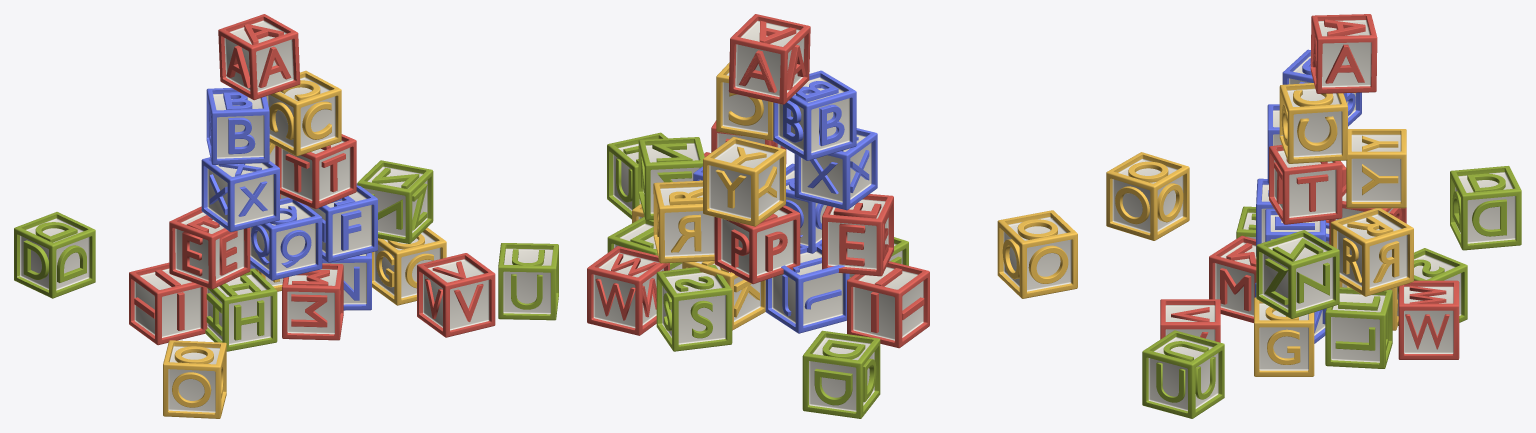
3 renders of one model, left to right at view 1: azimuth 30°, elevation 25°; view 2: azimuth 150°, elevation 25°; view 3: azimuth 270°, elevation 25°, orthographic. The views are drawn at different scales.
Visible parts, largest first — view 1: D_4, A_12, V_1, I_5, E_8, X_15, C_2, O_6, H_7, U_0, Q_22, B_3 (+6 smaller); view 2: Y_19, A_12, O_6, D_4, I_5, S_18, B_3, W_17, J_21, E_8, P_11, X_15 (+8 smaller); view 3: O_6, Z_24, U_0, R_9, D_4, A_12, C_2, L_25, W_17, Y_19, T_13, G_20 (+10 smaller).
Boxes of the visible parts, x1,y1,x2,y2 form: D_4: [14, 212, 95, 298]; A_12: [218, 14, 300, 100]; V_1: [417, 253, 495, 337]; I_5: [129, 262, 207, 345]; E_8: [169, 206, 250, 289]; X_15: [201, 157, 279, 231]; C_2: [266, 70, 341, 156]; O_6: [163, 340, 226, 418]; H_7: [205, 268, 277, 351]; U_0: [498, 243, 558, 320]; Q_22: [250, 197, 322, 280]; B_3: [206, 88, 269, 164]; Y_19: [703, 137, 785, 226]; A_12: [728, 14, 810, 104]; O_6: [997, 210, 1077, 298]; D_4: [802, 330, 880, 418]; I_5: [847, 261, 929, 348]; S_18: [656, 265, 732, 351]; B_3: [773, 70, 856, 160]; W_17: [587, 246, 669, 335]; J_21: [765, 245, 849, 333]; E_8: [822, 194, 893, 276]; P_11: [714, 205, 800, 284]; X_15: [794, 128, 877, 210]; O_6: [1106, 152, 1189, 240]; Z_24: [1256, 230, 1339, 318]; U_0: [1142, 330, 1224, 418]; R_9: [1330, 208, 1413, 296]; D_4: [1450, 166, 1521, 250]; A_12: [1310, 14, 1377, 93]; C_2: [1279, 83, 1347, 163]; L_25: [1325, 287, 1392, 368]; W_17: [1398, 280, 1459, 359]; Y_19: [1346, 129, 1406, 208]; T_13: [1269, 145, 1342, 224]; G_20: [1254, 297, 1314, 376].
Bounding box in the file's own units: 191 × 117 × 157.
